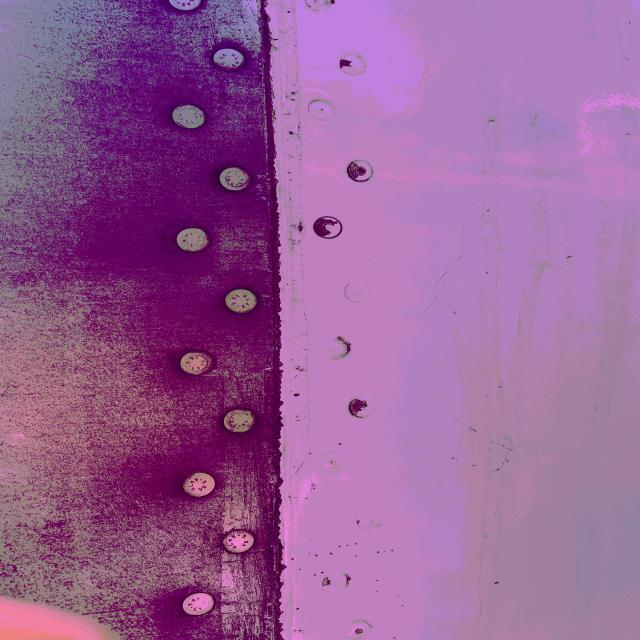crack: (423, 222, 486, 315), (480, 431, 523, 478)
